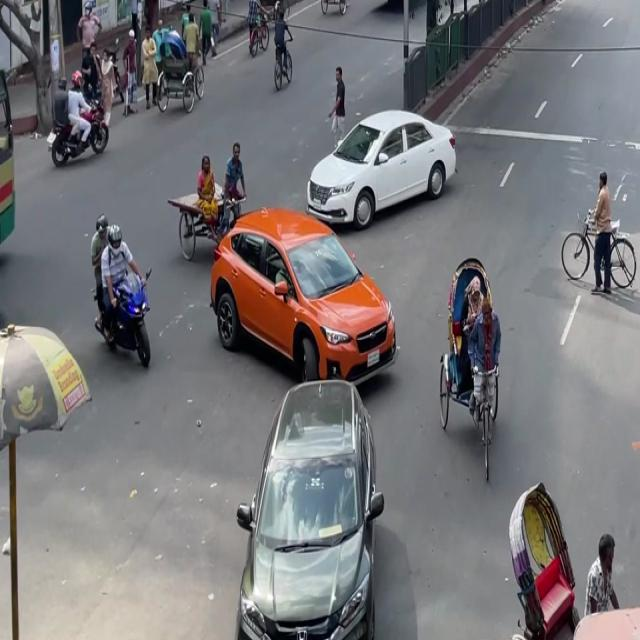bicycle: (558, 207, 640, 308), (264, 7, 300, 93)
car: (224, 354, 402, 638), (202, 198, 403, 414), (304, 87, 459, 240)
motorbike: (80, 209, 166, 380), (48, 93, 112, 171)
van: (166, 139, 251, 267)
